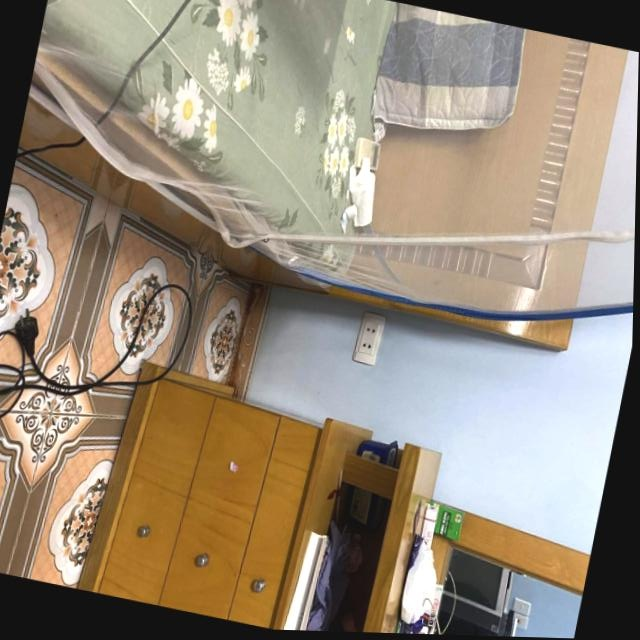outlet: (353, 310, 388, 367)
